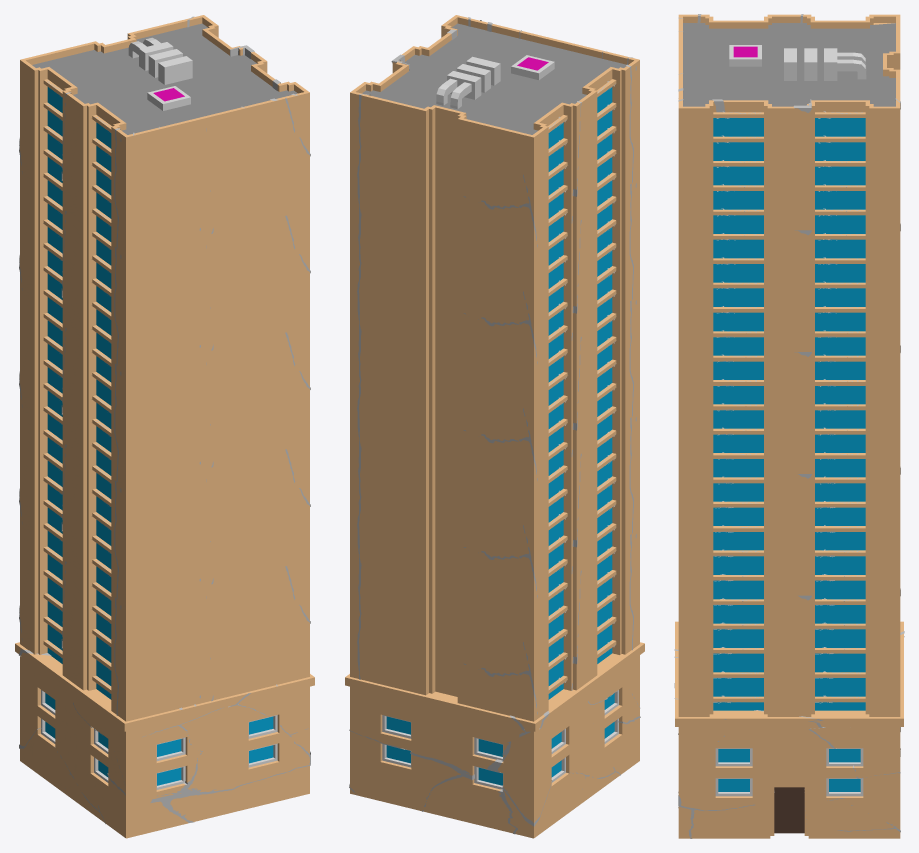
Rendered from Building_02.fbx.
The picture shows the model from 3 angles, left to right: view 1: azimuth 30°, elevation 25°; view 2: azimuth 150°, elevation 25°; view 3: azimuth 270°, elevation 25°; orthographic projection. The views are drawn at different scales.
Parts seen in each view (by area): view 1: Building_02, Building_02_Cracked; view 2: Building_02, Building_02_Cracked; view 3: Building_02, Building_02_Cracked.
Boxes of the visible parts, x1,y1,x2,y2 form: Building_02: [15, 15, 314, 838]; Building_02_Cracked: [19, 16, 310, 823]; Building_02: [345, 15, 644, 838]; Building_02_Cracked: [349, 17, 640, 834]; Building_02: [675, 14, 903, 838]; Building_02_Cracked: [674, 14, 904, 838].
Size of the model in its own units: 172 by 610 by 171.
